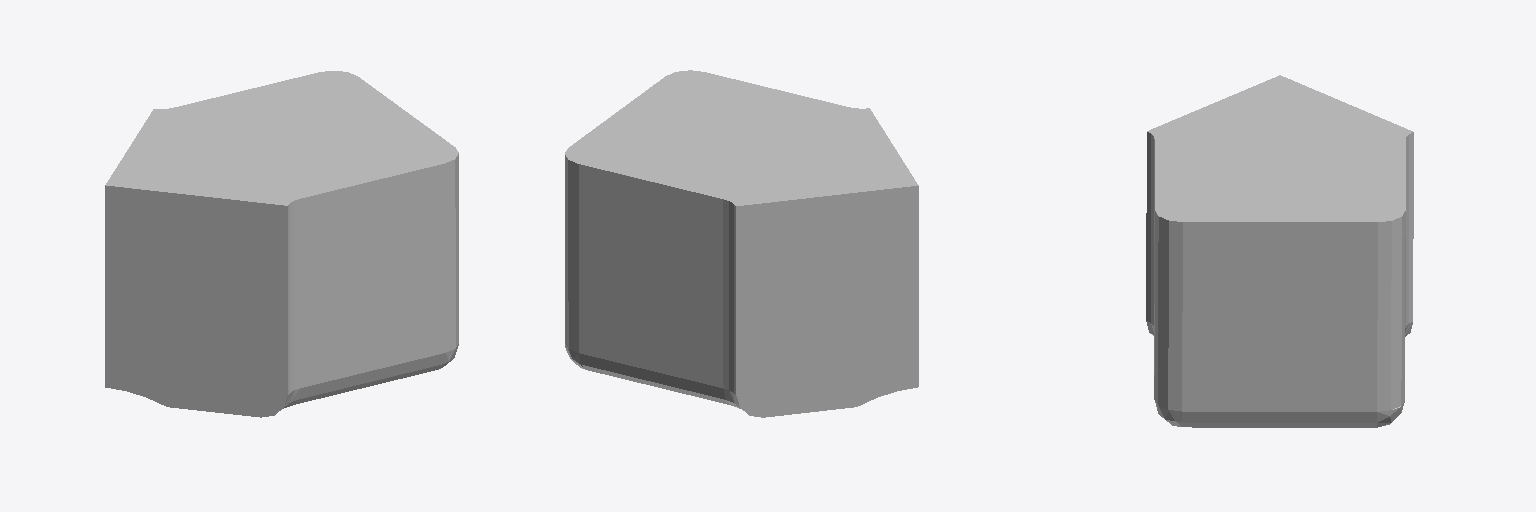
File: DPadRight.obj
3 renders of one model, left to right at view 1: azimuth 30°, elevation 25°; view 2: azimuth 150°, elevation 25°; view 3: azimuth 270°, elevation 25°, orthographic.
Parts seen in each view (by area): view 1: DPadRight; view 2: DPadRight; view 3: DPadRight.
Boxes of the visible parts, x1=… form: DPadRight: x1=105, y1=71, x2=458, y2=417; DPadRight: x1=565, y1=70, x2=918, y2=417; DPadRight: x1=1146, y1=75, x2=1413, y2=427.
Size of the model in its own units: 12.5 by 8.52 by 9.6.